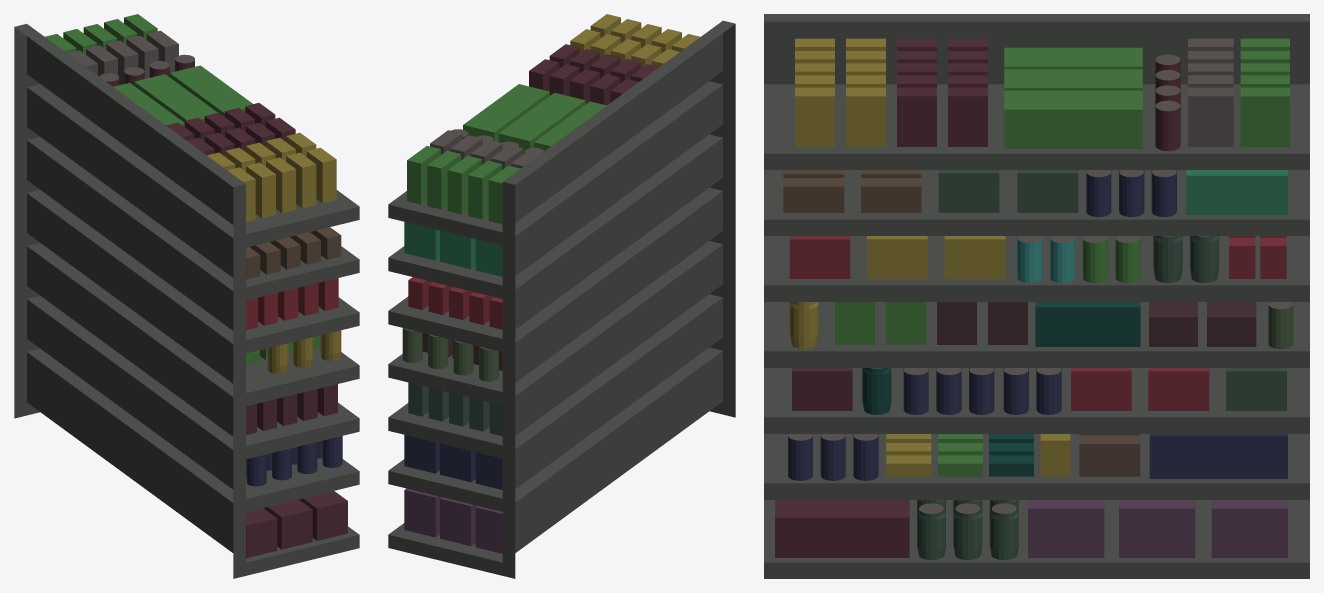
File: storeShelf.glb
3 renders of one model, left to right at view 1: azimuth 30°, elevation 25°; view 2: azimuth 150°, elevation 25°; view 3: azimuth 270°, elevation 25°, orthographic. The views are drawn at different scales.
Visible parts, largest first — view 1: fullShelf, shelfItems; view 2: fullShelf, shelfItems; view 3: shelfItems, fullShelf.
Part boxes in pixels (x1=…): fullShelf: x1=14, y1=23, x2=359, y2=578; shelfItems: x1=45, y1=14, x2=347, y2=558; fullShelf: x1=388, y1=20, x2=735, y2=578; shelfItems: x1=402, y1=14, x2=699, y2=553; shelfItems: x1=775, y1=38, x2=1293, y2=559; fullShelf: x1=764, y1=14, x2=1309, y2=578.
Bounding box in the file's own units: 0.5 × 1.48 × 1.5.
Materials: 2 (2 with a texture image).
